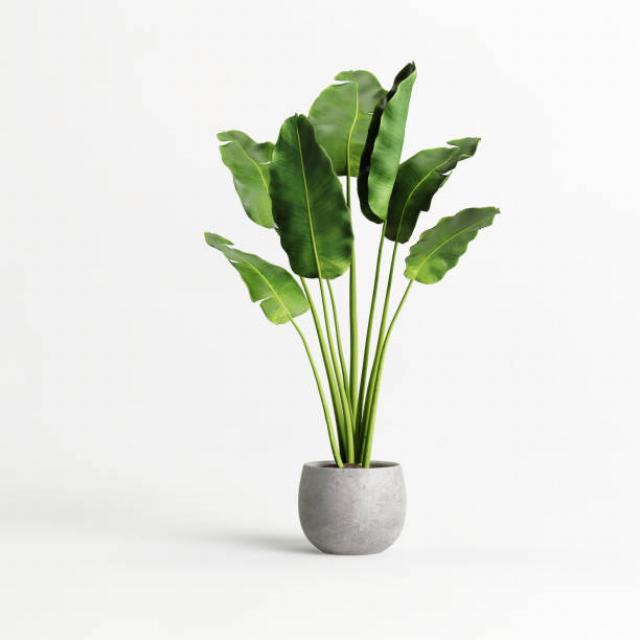Plants: (186, 69, 516, 558)
